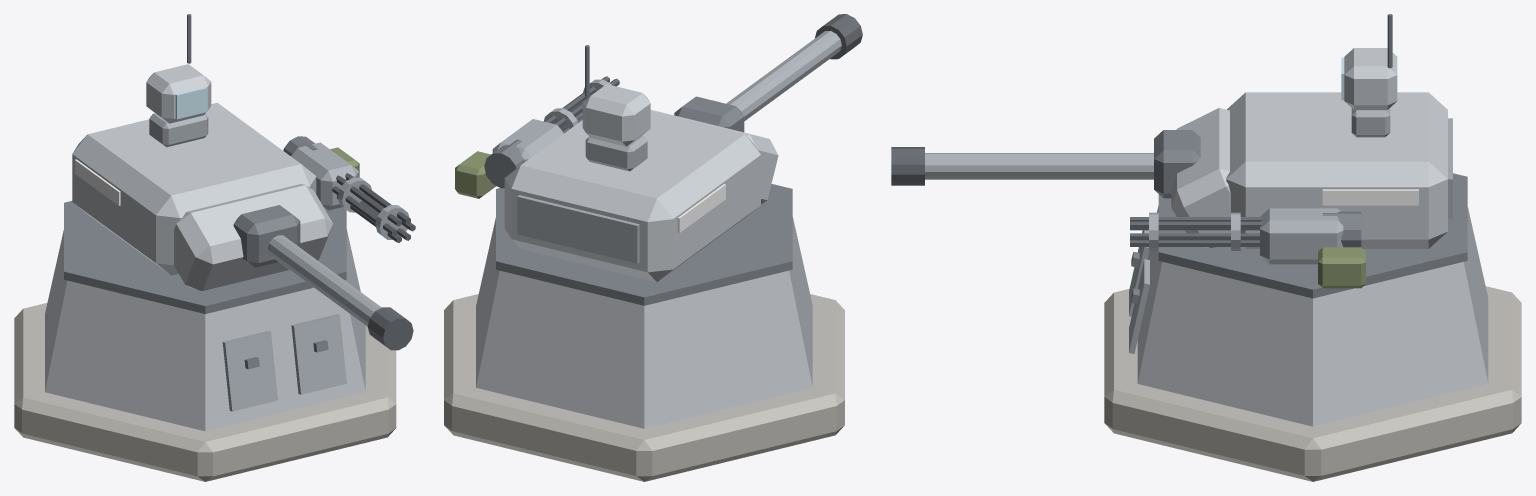
File: turret_2.glb
3 views of the same model, side by side, from view 1: azimuth 30°, elevation 25°; view 2: azimuth 150°, elevation 25°; view 3: azimuth 270°, elevation 25° (orthographic). The views are drawn at different scales.
Visible parts, largest first — view 1: main, turret; view 2: main, turret; view 3: main, turret.
Part boxes in pixels (<box>): main: <box>14,201,396,481</box>; turret: <box>72,14,415,350</box>; main: <box>444,184,844,481</box>; turret: <box>455,14,862,282</box>; main: <box>1104,173,1521,481</box>; turret: <box>891,14,1452,288</box>.
Size of the model in its own units: 0.98 by 0.87 by 1.31.
